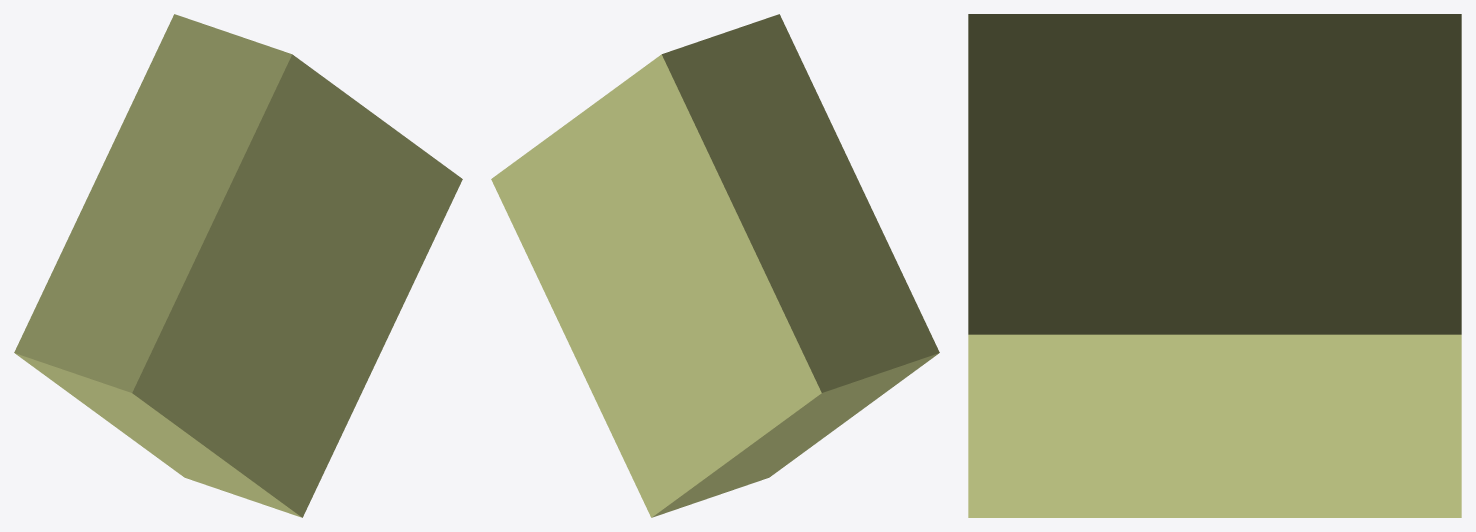
3 views of the same model, side by side, from view 1: azimuth 30°, elevation 25°; view 2: azimuth 150°, elevation 25°; view 3: azimuth 270°, elevation 25° (orthographic). The views are drawn at different scales.
Visible parts, largest first — view 1: 0_0_1_3_2_1_2_1_2_1; view 2: 0_0_1_3_2_1_2_1_2_1; view 3: 0_0_1_3_2_1_2_1_2_1.
Part boxes in pixels (bbox=[...]): 0_0_1_3_2_1_2_1_2_1: bbox=[14, 14, 462, 517]; 0_0_1_3_2_1_2_1_2_1: bbox=[491, 14, 939, 517]; 0_0_1_3_2_1_2_1_2_1: bbox=[968, 14, 1461, 517].
Size of the model in its own units: 8.48 by 10.74 by 9.
